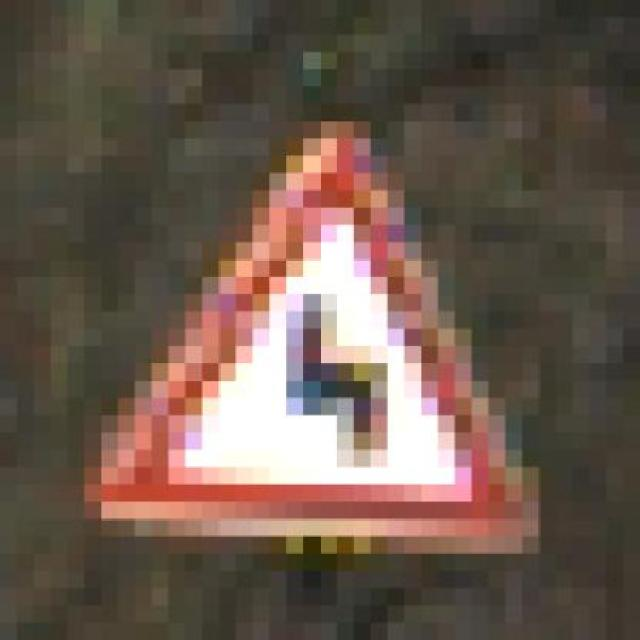Left Zig Zag Traffic: (84, 120, 573, 572)
